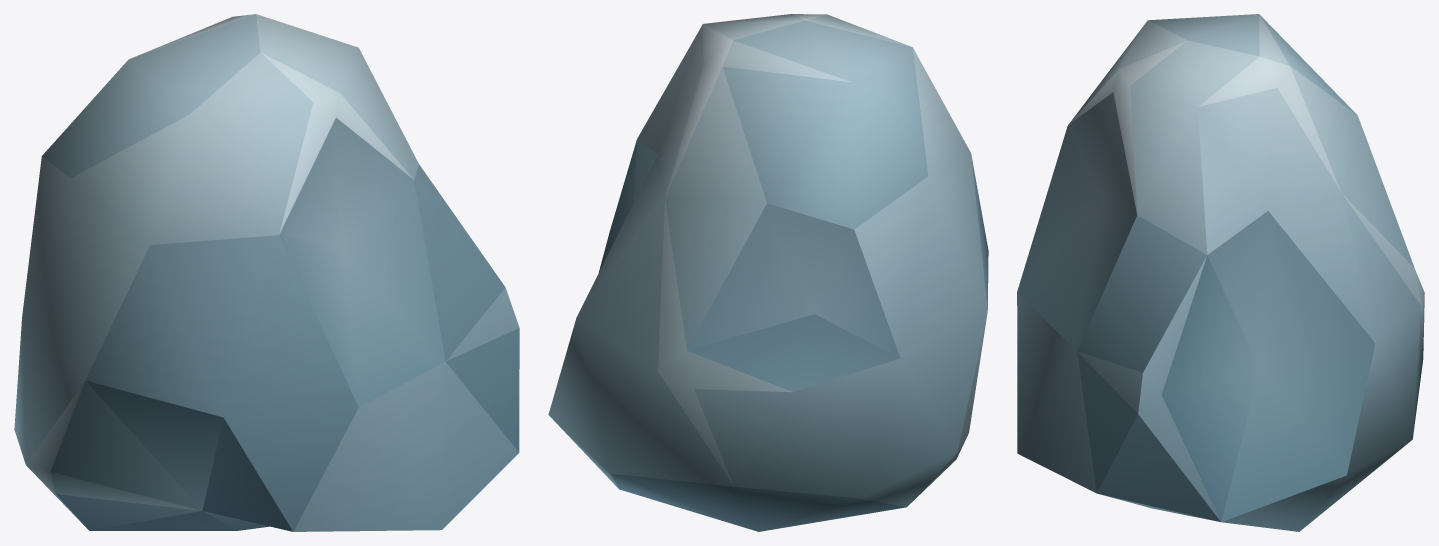
The model's file is Silver_Nugget_Large.glb.
The picture shows the model from 3 angles, left to right: view 1: azimuth 30°, elevation 25°; view 2: azimuth 150°, elevation 25°; view 3: azimuth 270°, elevation 25°; orthographic projection. The views are drawn at different scales.
Visible parts, largest first — view 1: Silver_Nugget_Large; view 2: Silver_Nugget_Large; view 3: Silver_Nugget_Large.
Boxes of the visible parts, x1,y1,x2,y2 form: Silver_Nugget_Large: (14,14,519,531); Silver_Nugget_Large: (548,14,988,531); Silver_Nugget_Large: (1017,14,1424,531).
Bounding box in the file's own units: 0.4271 × 0.4656 × 0.3947.
1 material, 1 textured.
